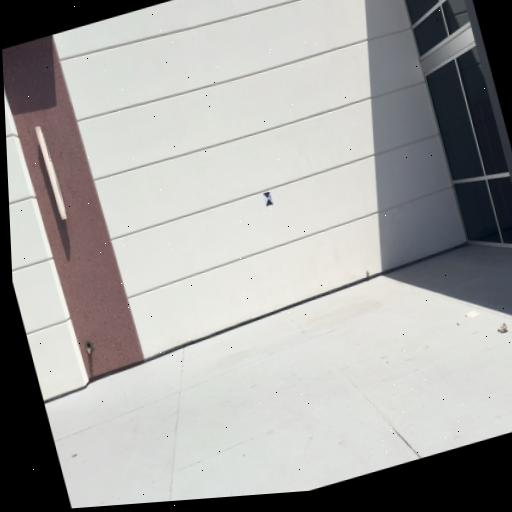target7: (261, 189, 274, 206)
